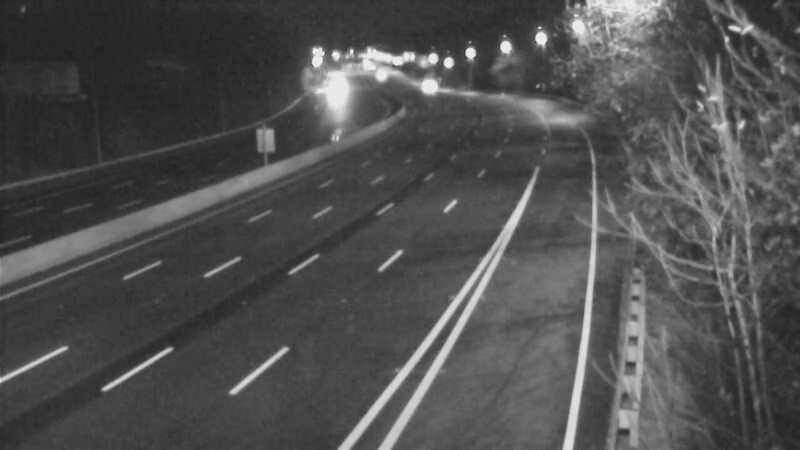vehicle: (355, 48, 405, 98), (401, 62, 451, 112), (313, 69, 363, 119)
